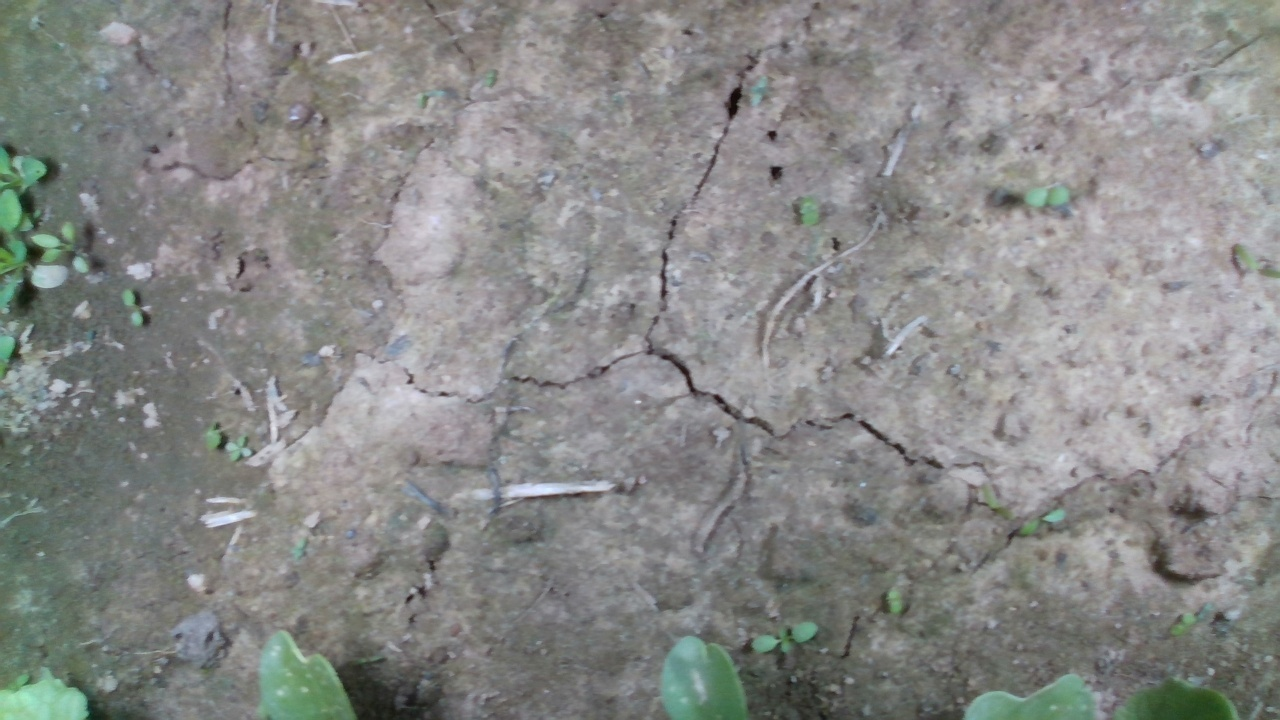weed: (748, 618, 819, 655), (1021, 184, 1071, 207), (222, 433, 254, 463), (120, 287, 144, 327)
